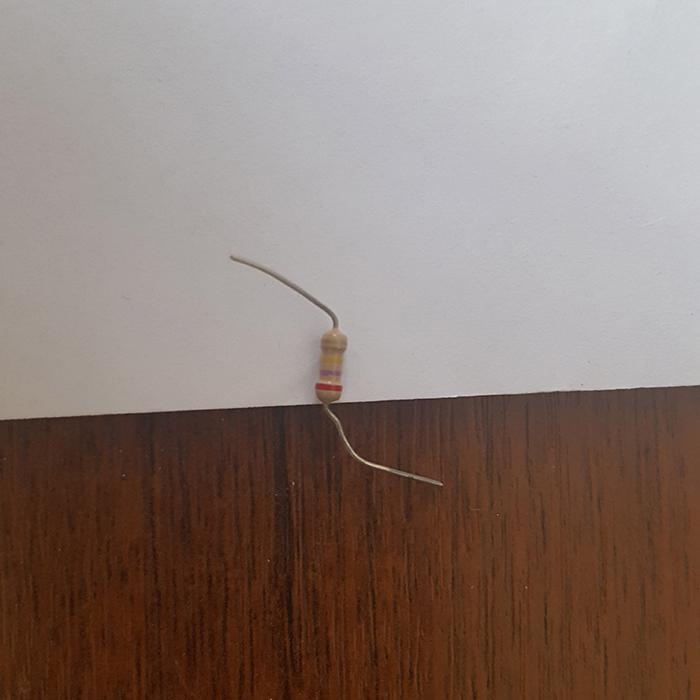resistor: (314, 328, 347, 402)
